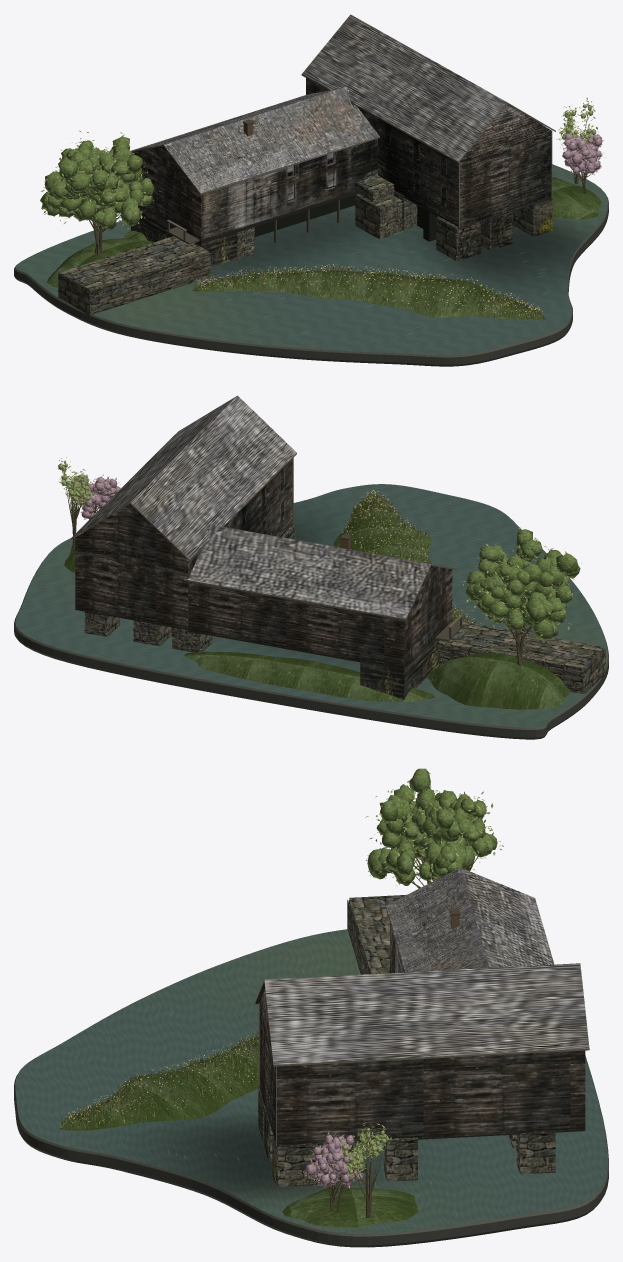
File: mill-study.glb
3 renders of one model, top to bottom at view 1: azimuth 30°, elevation 25°; view 2: azimuth 150°, elevation 25°; view 3: azimuth 270°, elevation 25°, orthographic. The views are drawn at different scales.
Parts seen in each view (by area): view 1: Moeckel Pond; view 2: Moeckel Pond; view 3: Moeckel Pond.
Boxes of the visible parts, x1,y1,x2,y2 form: Moeckel Pond: (14, 14, 608, 366); Moeckel Pond: (14, 395, 608, 739); Moeckel Pond: (14, 768, 608, 1247).
Size of the model in its own units: 0.324 by 0.0922 by 0.2609.
50 materials, 18 textured.
